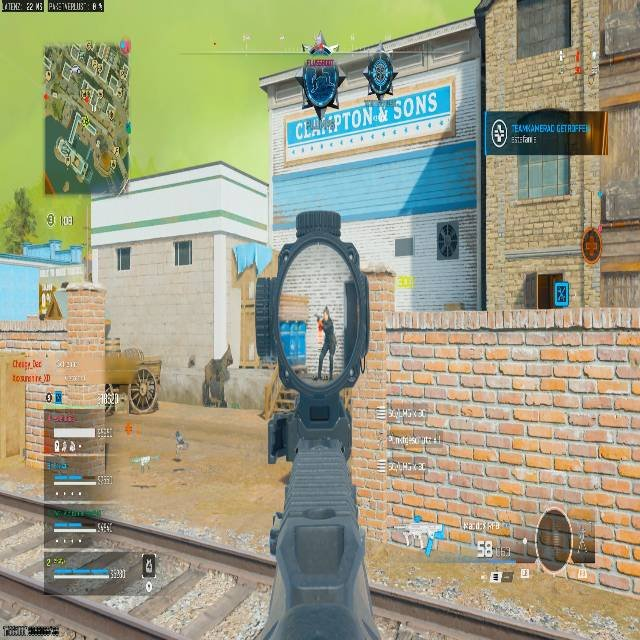player: (298, 33, 344, 127), (365, 50, 397, 101), (316, 307, 336, 376)
